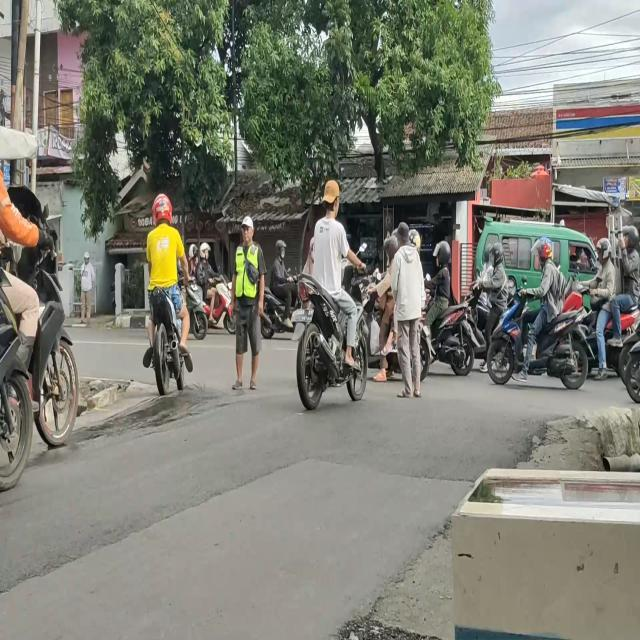helmet: (151, 196, 171, 228), (596, 236, 612, 263), (535, 239, 551, 264), (434, 242, 452, 264), (624, 224, 638, 248), (488, 244, 504, 265), (276, 240, 284, 260), (188, 244, 197, 259), (200, 242, 208, 257)
no-helmet: (324, 182, 338, 216)
